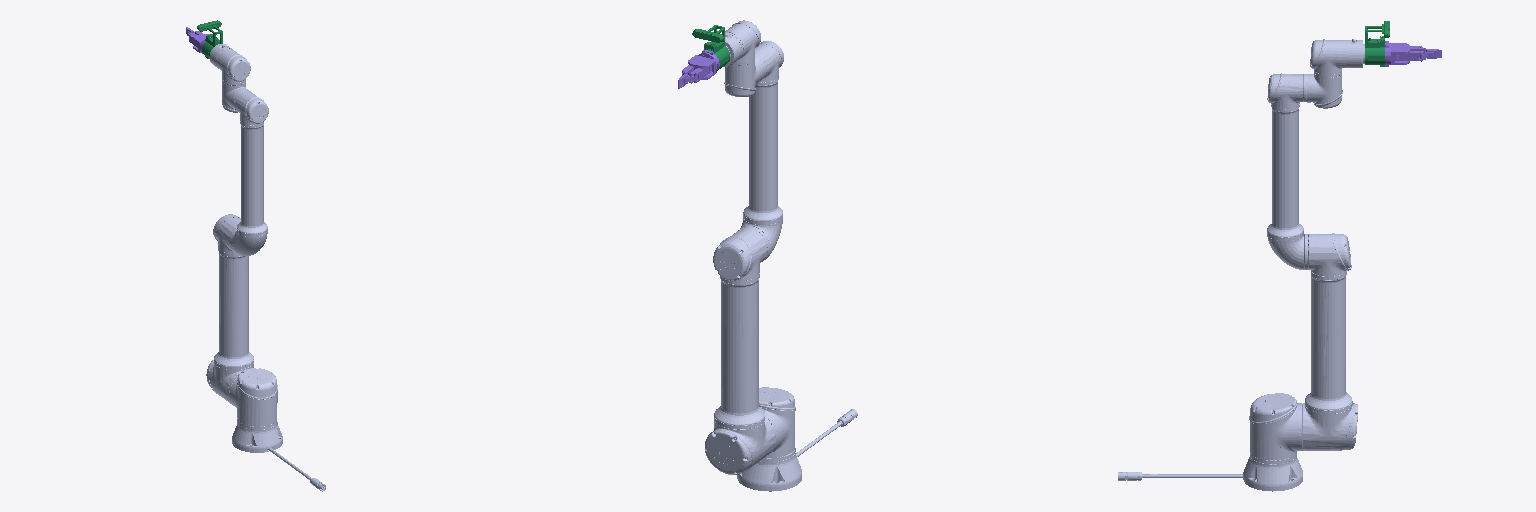
robot.urdf — base_UR:
<?xml version="1.0" encoding="UTF-8"?>
<robot name="base_UR">
	<link name="world" />
	<joint name="world_base_UR" type="fixed">
		<origin xyz="0 0 0.0135" rpy="0 0 0" />
		<parent link="world" />
		<child link="base_UR" />
	</joint>
	<link name="base_UR">
		<visual>
			<geometry>
				<mesh filename="package://keti_workcell_description/meshes/base1.STL" />
			</geometry>
			<material name="">
				<color rgba="0.89 0.91 0.93 1" />
			</material>
		</visual>
	</link>
	<link name="UR_jig">
		<visual>
			<geometry>
				<mesh filename="package://keti_workcell_description/meshes/UR_jig.STL" />
			</geometry>
			<material name="">
				<color rgba="0.69 0.71 0.83 1" />
			</material>
		</visual>
	</link>
	<link name="base_link">
		<visual>
			<geometry>
				<mesh filename="package://keti_workcell_description/meshes/UR10e/base_link.STL" />
			</geometry>
			<material name="">
				<color rgba="0.79216 0.81961 0.93333 1" />
			</material>
		</visual>
	</link>
	<link name="link1">
		<visual>
			<geometry>
				<mesh filename="package://keti_workcell_description/meshes/UR10e/link1.STL" />
			</geometry>
			<material name="">
				<color rgba="0.79216 0.81961 0.93333 1" />
			</material>
		</visual>
	</link>
	<link name="link2">
		<visual>
			<geometry>
				<mesh filename="package://keti_workcell_description/meshes/UR10e/link2.STL" />
			</geometry>
			<material name="">
				<color rgba="0.79216 0.81961 0.93333 1" />
			</material>
		</visual>
	</link>
	<link name="link3">
		<visual>
			<geometry>
				<mesh filename="package://keti_workcell_description/meshes/UR10e/link3.STL" />
			</geometry>
			<material name="">
				<color rgba="0.79216 0.81961 0.93333 1" />
			</material>
		</visual>
	</link>
	<link name="link4">
		<visual>
			<geometry>
				<mesh filename="package://keti_workcell_description/meshes/UR10e/link4.STL" />
			</geometry>
			<material name="">
				<color rgba="0.79216 0.81961 0.93333 1" />
			</material>
		</visual>
	</link>
	<link name="link5">
		<visual>
			<geometry>
				<mesh filename="package://keti_workcell_description/meshes/UR10e/link5.STL" />
			</geometry>
			<material name="">
				<color rgba="0.79216 0.81961 0.93333 1" />
			</material>
		</visual>
	</link>
	<link name="link6">
		<visual>
			<geometry>
				<mesh filename="package://keti_workcell_description/meshes/UR10e/link6.STL" />
			</geometry>
			<material name="">
				<color rgba="0.79216 0.81961 0.93333 1" />
			</material>
		</visual>
	</link>
	<joint name="UR_jig_fixed" type="fixed">
		<origin xyz="-0.00017 0.04561 0.835" rpy="0 0 0" />
		<parent link="base_UR" />
		<child link="UR_jig" />
	</joint>
	<joint name="base_link_fixed" type="fixed">
		<origin xyz="0 0 0" rpy="0 0 3.1416" />
		<parent link="UR_jig" />
		<child link="base_link" />
	</joint>
	<joint name="q1" type="revolute">
		<origin xyz="0 0 0" rpy="0 0 0" />
		<parent link="base_link" />
		<child link="link1" />
		<axis xyz="0 0 1" />
		<limit lower="-3.140000" upper="3.140000" effort="100" velocity="10" />
	</joint>
	<joint name="q2" type="revolute">
		<origin xyz="0 0 0.1807" rpy="1.5708 1.5708 0" />
		<parent link="link1" />
		<child link="link2" />
		<axis xyz="0 0 1" />
		<limit lower="-3.140000" upper="3.140000" effort="100" velocity="10" />
	</joint>
	<joint name="q3" type="revolute">
		<origin xyz="-0.6127 0 0" rpy="0 0 0" />
		<parent link="link2" />
		<child link="link3" />
		<axis xyz="0 0 1" />
		<limit lower="-3.140000" upper="3.140000" effort="100" velocity="10" />
	</joint>
	<joint name="q4" type="revolute">
		<origin xyz="-0.57155 0 0" rpy="0 0 -1.5708" />
		<parent link="link3" />
		<child link="link4" />
		<axis xyz="0 0 1" />
		<limit lower="-3.140000" upper="3.140000" effort="100" velocity="10" />
	</joint>
	<joint name="q5" type="revolute">
		<origin xyz="0 0 0.17415" rpy="1.5708 0 0" />
		<parent link="link4" />
		<child link="link5" />
		<axis xyz="0 0 1" />
		<limit lower="-3.140000" upper="3.140000" effort="100" velocity="10" />
	</joint>
	<joint name="q6" type="revolute">
		<origin xyz="0 0 0.11985" rpy="-1.5708 0 0" />
		<parent link="link5" />
		<child link="link6" />
		<axis xyz="0 0 1" />
		<limit lower="-3.140000" upper="3.140000" effort="100" velocity="10" />
	</joint>
	<link name="tool_changer">
		<visual>
			<geometry>
				<mesh filename="package://keti_workcell_description/meshes/tool_changer.STL" />
			</geometry>
			<material name="">
				<color rgba="0.2 0.6 0.4 1" />
			</material>
		</visual>
	</link>
	<joint name="tool_fixed" type="fixed">
		<origin xyz="0 0 0.18255" rpy="0 0 0" />
		<parent link="link6" />
		<child link="tool_changer" />
	</joint>
	<link name="koras_2f">
		<visual>
			<geometry>
				<mesh filename="package://keti_workcell_description/meshes/koras_2f.STL" />
			</geometry>
			<material name="">
				<color rgba="0.6 0.5 0.9 1" />
			</material>
		</visual>
	</link>
	<joint name="koras_2f_fixed" type="fixed">
		<origin xyz="0 0 0" rpy="0 0 0" />
		<parent link="tool_changer" />
		<child link="koras_2f" />
	</joint>
</robot>

--- What the picture shows (computed from the rendered views, not written in the file) ---
3 views of the same robot in one strip: view 1: azimuth 30°, elevation 25°; view 2: azimuth 150°, elevation 25°; view 3: azimuth 270°, elevation 25° (orthographic).
Model base_UR with 12 links and 11 joints (6 revolute, 5 fixed), rooted at world, posed all joints at 0.
Links seen in each view (by area): view 1: link2, link3, link1, base_link, link5; view 2: link2, link3, base_link, link1, link4, koras_2f, link5, tool_changer; view 3: link2, link3, link1, base_link, link5, link4, koras_2f, tool_changer.
Link boxes in pixels (bbox=[...]): link2: bbox=[206, 214, 253, 403]; link3: bbox=[229, 91, 268, 255]; link1: bbox=[227, 368, 277, 426]; base_link: bbox=[232, 418, 325, 491]; link5: bbox=[216, 49, 250, 85]; link2: bbox=[705, 228, 775, 474]; link3: bbox=[738, 41, 783, 259]; base_link: bbox=[737, 409, 857, 491]; link1: bbox=[759, 387, 795, 457]; link4: bbox=[724, 54, 766, 96]; koras_2f: bbox=[678, 50, 719, 88]; link5: bbox=[725, 20, 760, 64]; tool_changer: bbox=[692, 25, 729, 72]; link2: bbox=[1303, 233, 1357, 450]; link3: bbox=[1267, 73, 1308, 269]; link1: bbox=[1249, 393, 1302, 459]; base_link: bbox=[1118, 452, 1302, 491]; link5: bbox=[1310, 39, 1345, 77]; link4: bbox=[1303, 73, 1342, 108]; koras_2f: bbox=[1385, 41, 1441, 66]; tool_changer: bbox=[1365, 21, 1389, 66].
Size in the robot's own frame: 0.19 by 1.03 by 1.59 metres.
Meshes: 11 distinct files referenced, 9 mesh visuals loaded (9 binary STL); not drawn: 2 (reference not matched to a file when rendering).